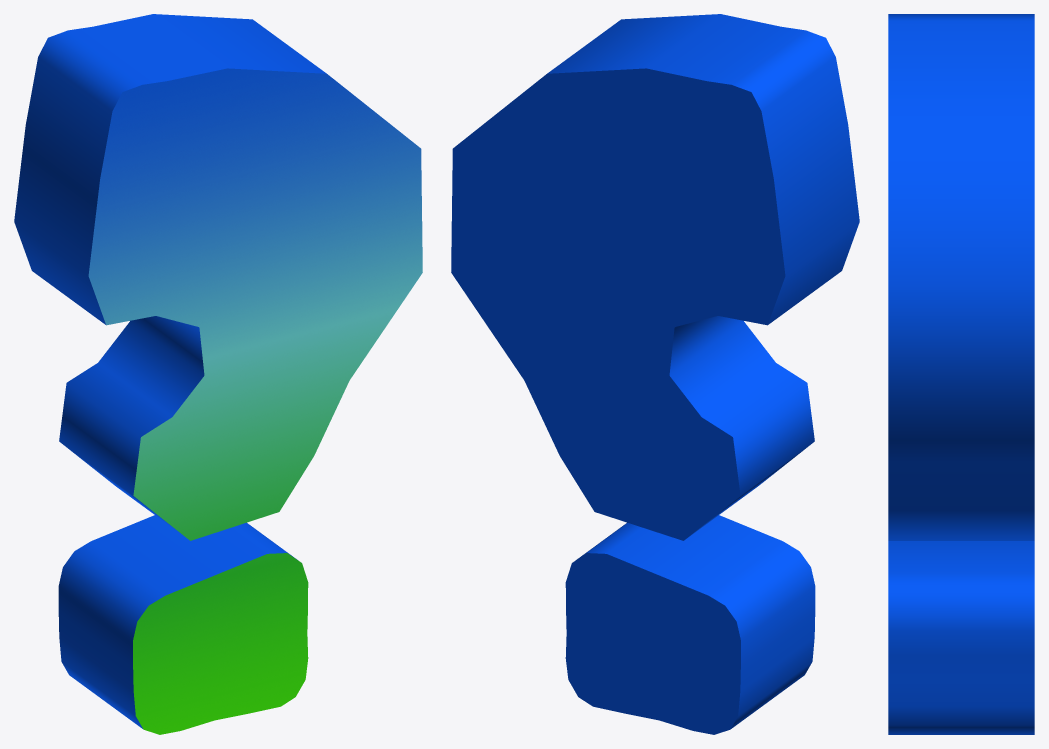
File: Question.FBX
3 views of the same model, side by side, from view 1: azimuth 30°, elevation 25°; view 2: azimuth 150°, elevation 25°; view 3: azimuth 270°, elevation 25° (orthographic).
Visible parts, largest first — view 1: Question; view 2: Question; view 3: Question.
Part boxes in pixels (bbox=[...]): Question: bbox=[14, 14, 422, 734]; Question: bbox=[451, 14, 859, 734]; Question: bbox=[888, 14, 1034, 734].
Size of the model in its own units: 51.9 by 97.27 by 20.
Materials: 2 (1 with a texture image).
